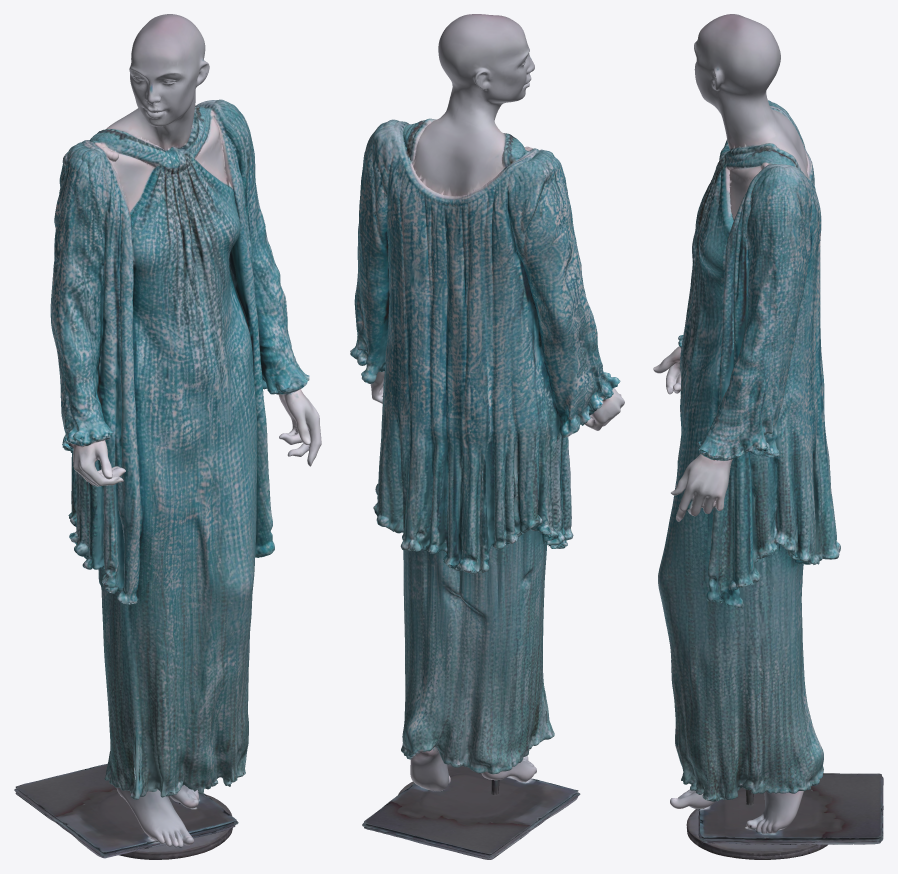
3 views of the same model, side by side, from view 1: azimuth 30°, elevation 25°; view 2: azimuth 150°, elevation 25°; view 3: azimuth 270°, elevation 25° (orthographic). The views are drawn at different scales.
Parts seen in each view (by area): view 1: tripo_node_1307482e-78c9-4406-acd5-a47f791dedd9; view 2: tripo_node_1307482e-78c9-4406-acd5-a47f791dedd9; view 3: tripo_node_1307482e-78c9-4406-acd5-a47f791dedd9.
Part boxes in pixels (x1,y1,x2,y2): tripo_node_1307482e-78c9-4406-acd5-a47f791dedd9: [14, 14, 321, 859]; tripo_node_1307482e-78c9-4406-acd5-a47f791dedd9: [350, 14, 624, 859]; tripo_node_1307482e-78c9-4406-acd5-a47f791dedd9: [653, 14, 883, 859].
Bounding box in the file's own units: 0.3107 × 0.9789 × 0.25.
1 material, 1 textured.
